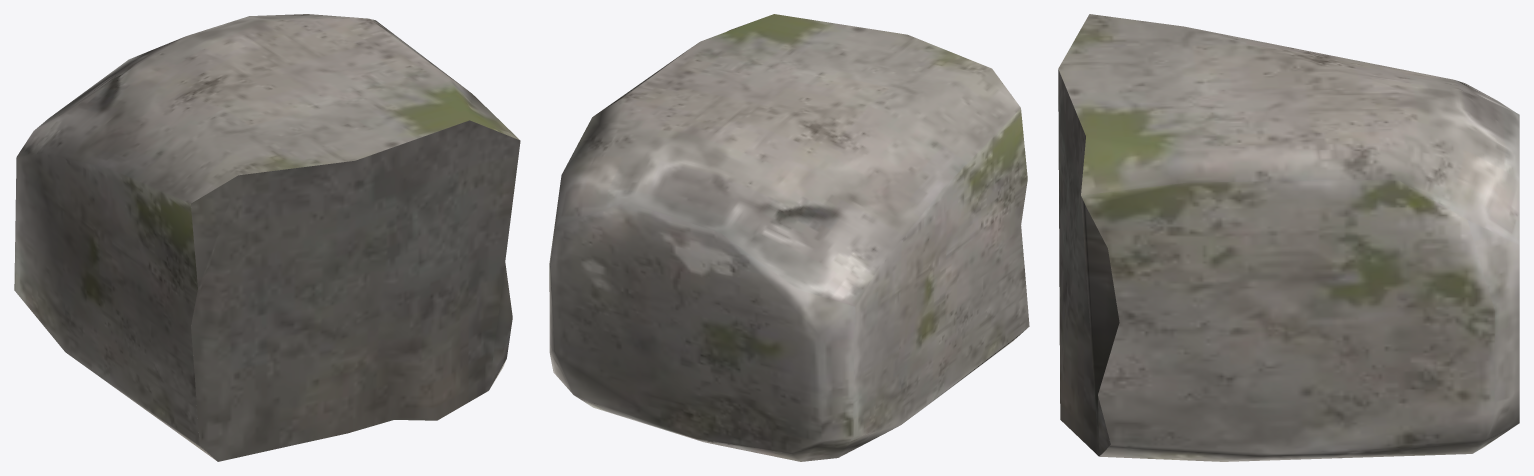
The picture shows the model from 3 angles, left to right: view 1: azimuth 30°, elevation 25°; view 2: azimuth 150°, elevation 25°; view 3: azimuth 270°, elevation 25°; orthographic projection. The views are drawn at different scales.
Visible parts, largest first — view 1: SM_Castle_Floor_Stone_01_Dmg_v4_LOD0; view 2: SM_Castle_Floor_Stone_01_Dmg_v4_LOD0; view 3: SM_Castle_Floor_Stone_01_Dmg_v4_LOD0.
Part boxes in pixels (x1,y1,x2,y2): SM_Castle_Floor_Stone_01_Dmg_v4_LOD0: (14, 14, 520, 461); SM_Castle_Floor_Stone_01_Dmg_v4_LOD0: (549, 14, 1029, 461); SM_Castle_Floor_Stone_01_Dmg_v4_LOD0: (1058, 14, 1519, 461).
Size of the model in its own units: 0.626 by 0.5293 by 0.7215.
Materials: 2 (2 with a texture image).
